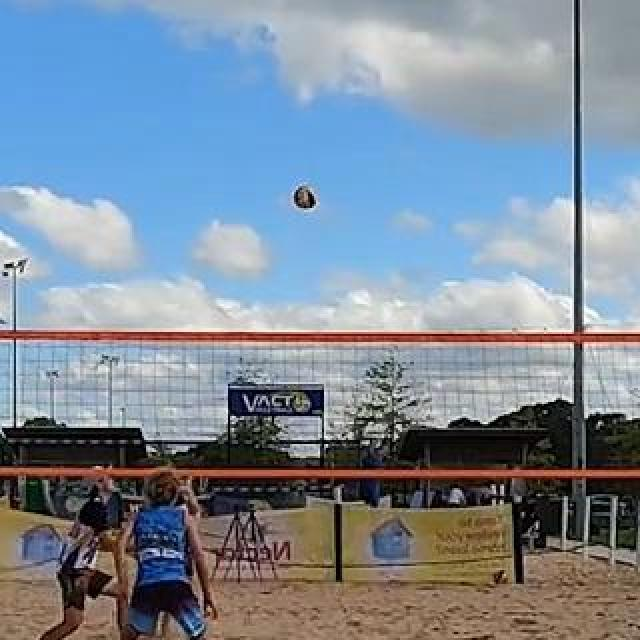volleyball: (292, 186, 318, 210), (494, 572, 510, 586)
